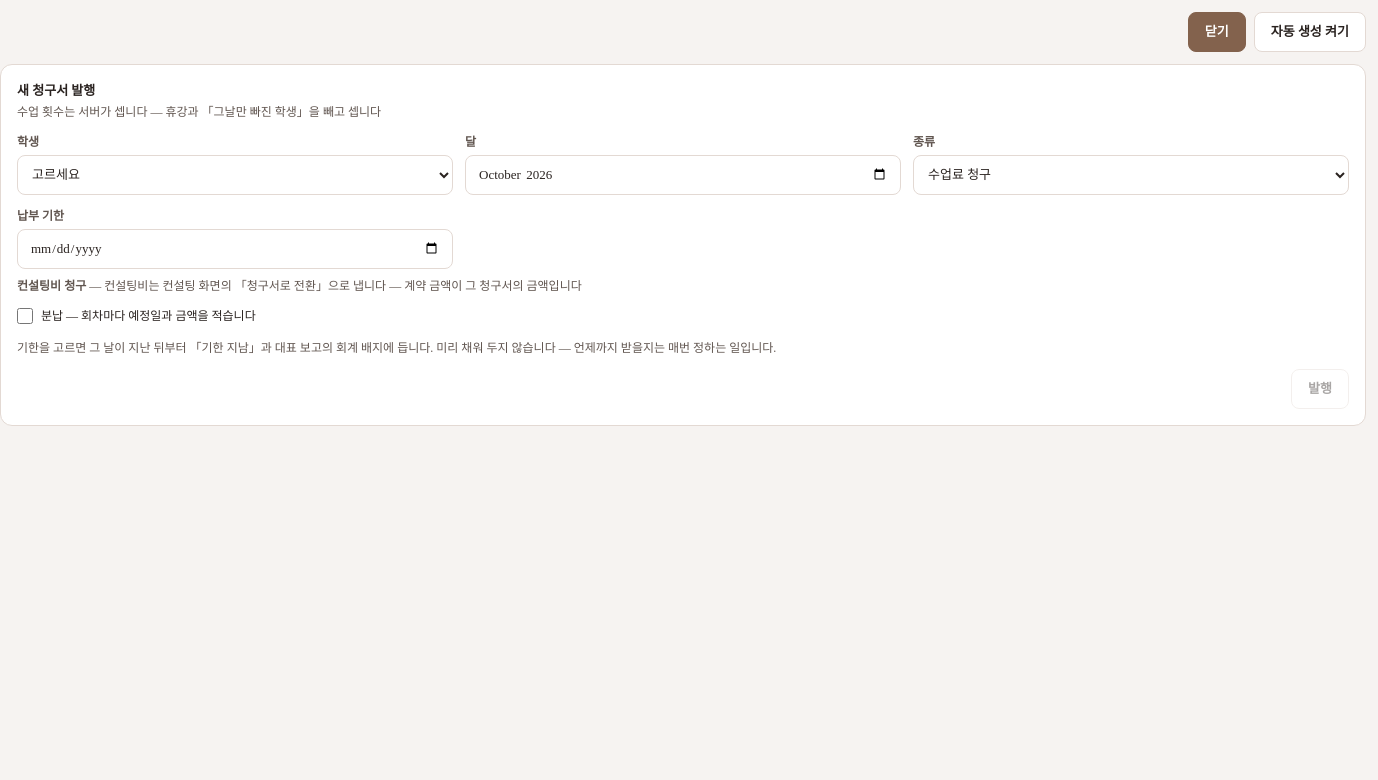
Test: 분납을 켰는데 그 달에 낼 것이 없으면 미리 세기의 까닭 문장이 선다
The width and height of the screenshot is (1378, 780).
Select "양찬욱 · G10" in the dropdown labelled "학생": (235, 174) left=17, top=154, right=453, bottom=194
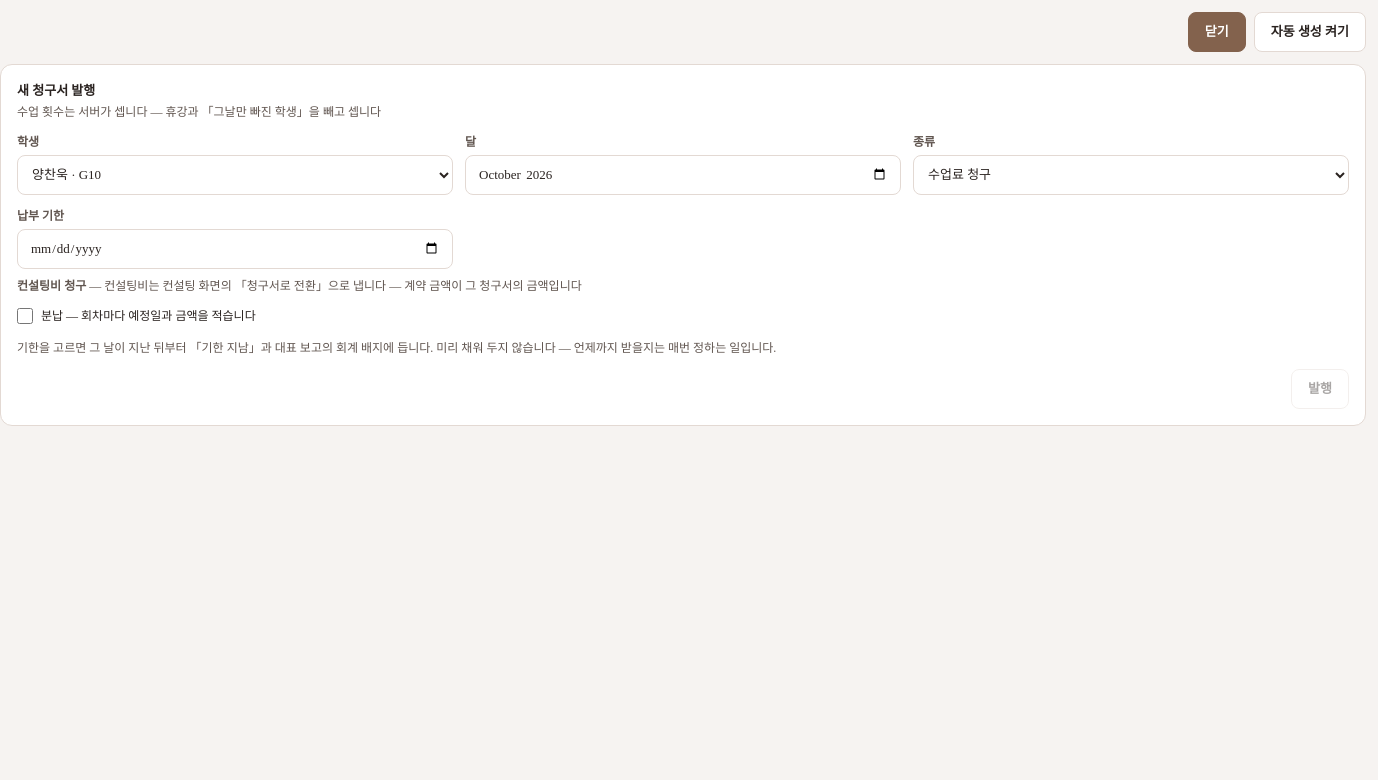
Replace the text in the field labelled "달" with "2026-08": (683, 174) left=465, top=154, right=901, bottom=194
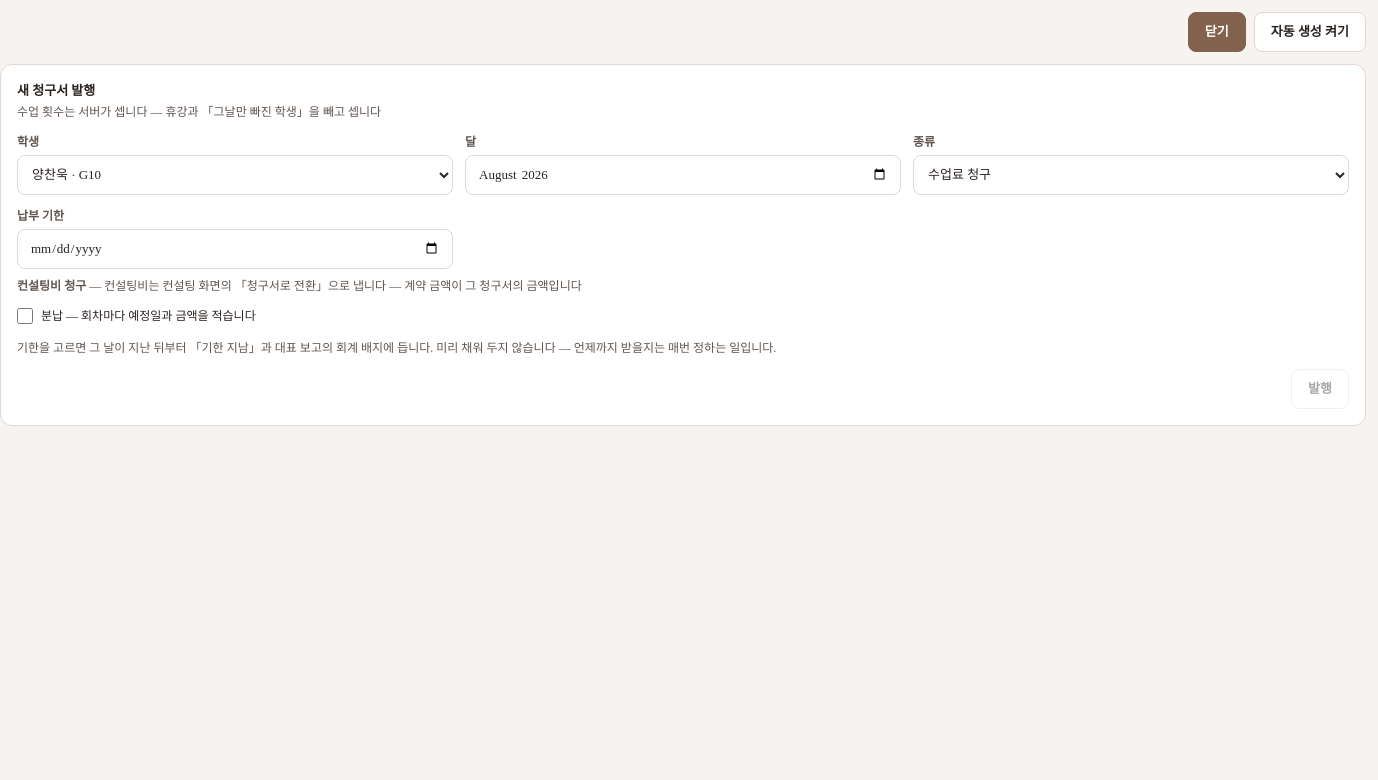
Click the checkbox labelled "분납 — 회차마다 예정일과 금액을 적습니다": (25, 316) left=17, top=308, right=33, bottom=324
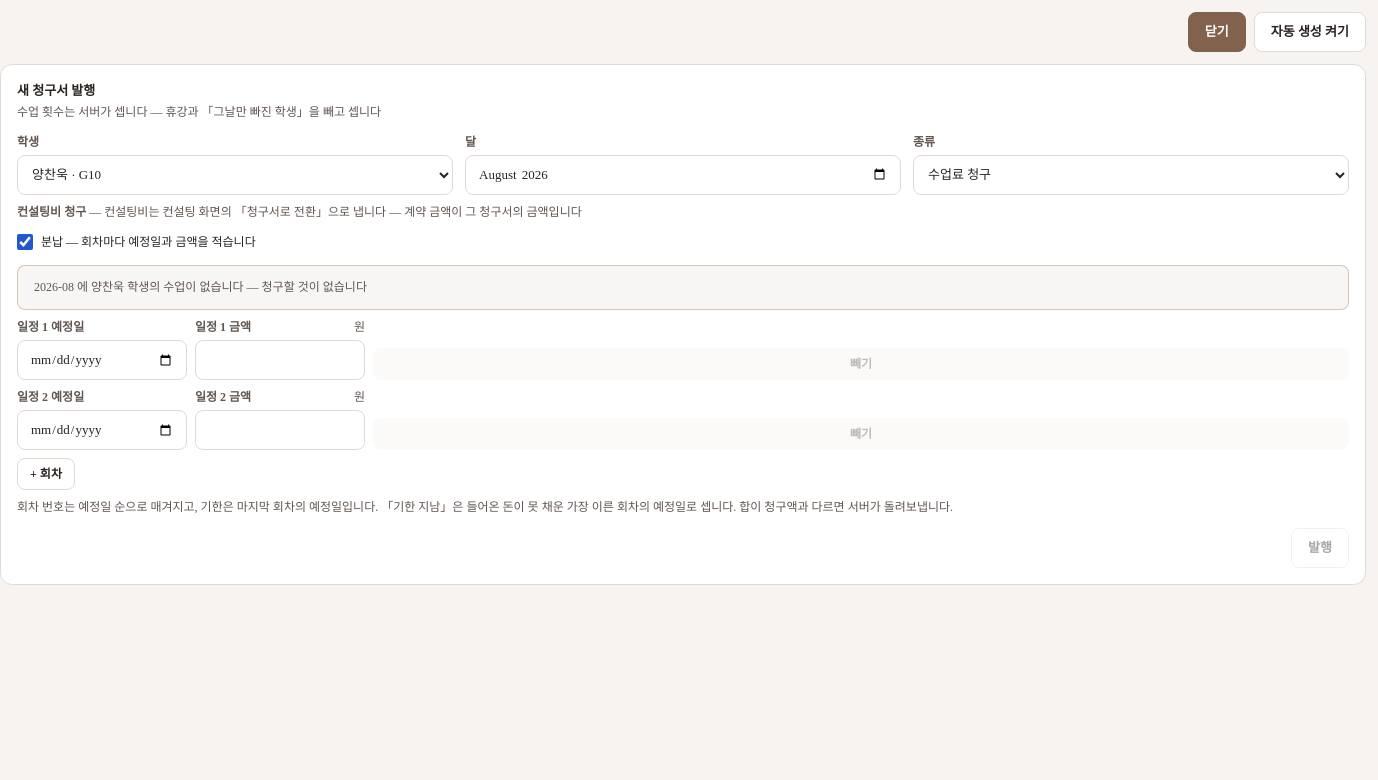
Expected: the text "2026-08 에 양찬욱 학생의 수업이 없습니다 — 청구할 것이 없습니다" is shown, left=17, top=264, right=1349, bottom=310
